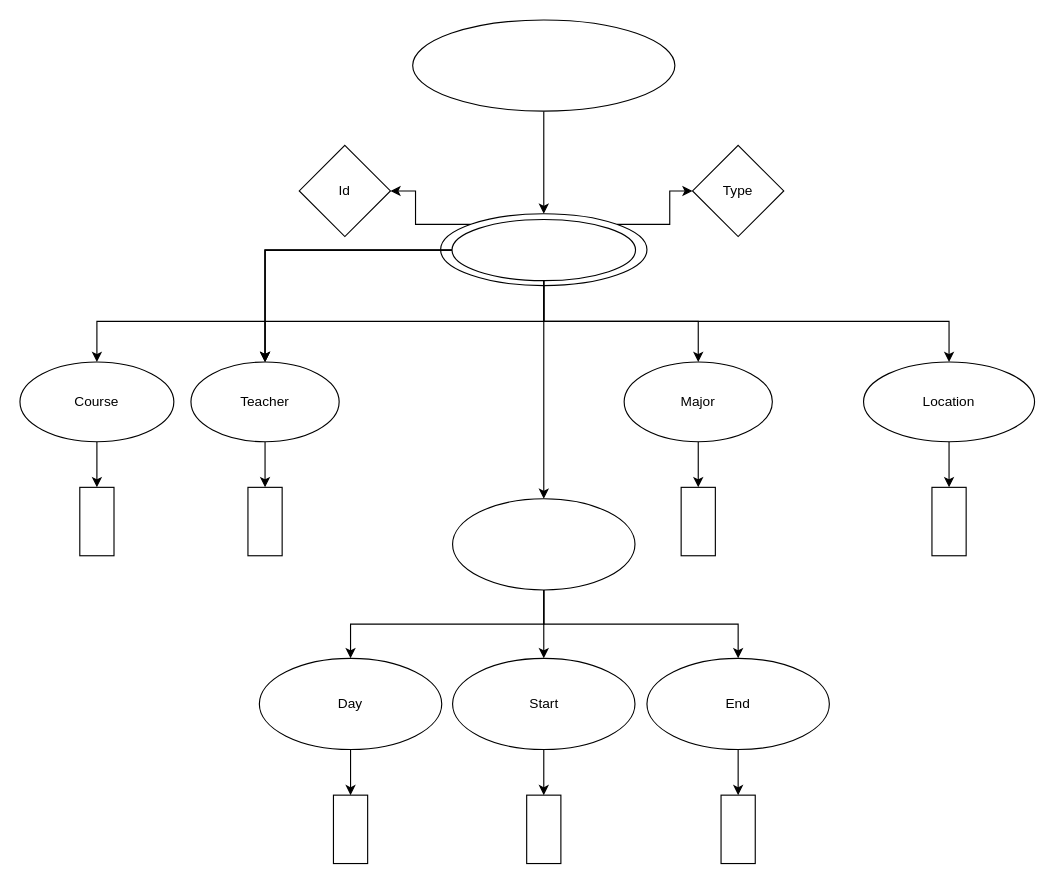
Image size: 1055x884. Some labels were removed from this diagram. Each missing label, with the centre of its shape:
"Lesson" goes at pixel 543 249.
"Time" goes at pixel 543 544.
"VECB52_orarend" goes at pixel 543 65.
